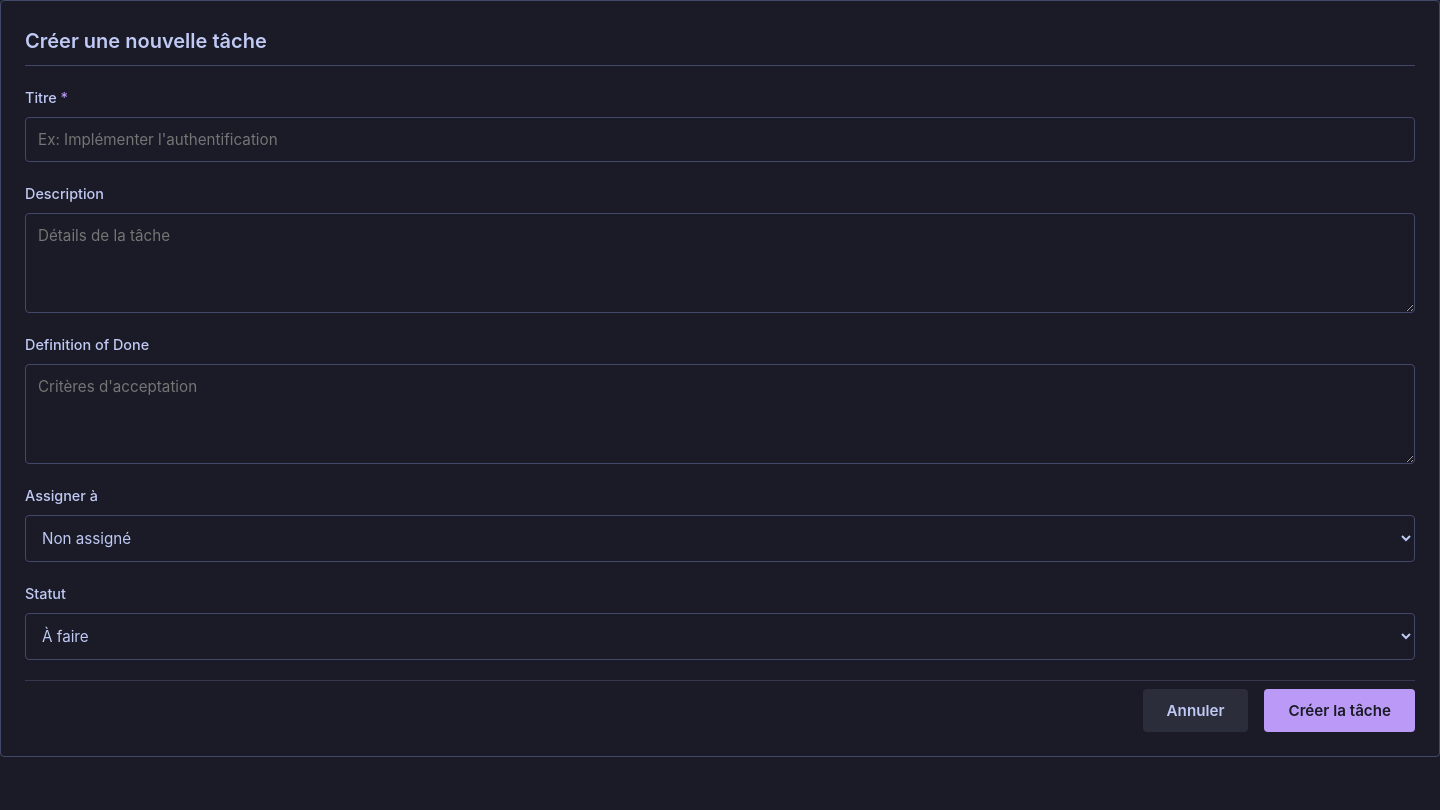
CreateTaskForm - Tests simples › devrait afficher un message d'erreur si la création échoue
Step 1. Type "Tâche erreur" into the field with id "title" → (720, 140), box [25,117,1415,162]
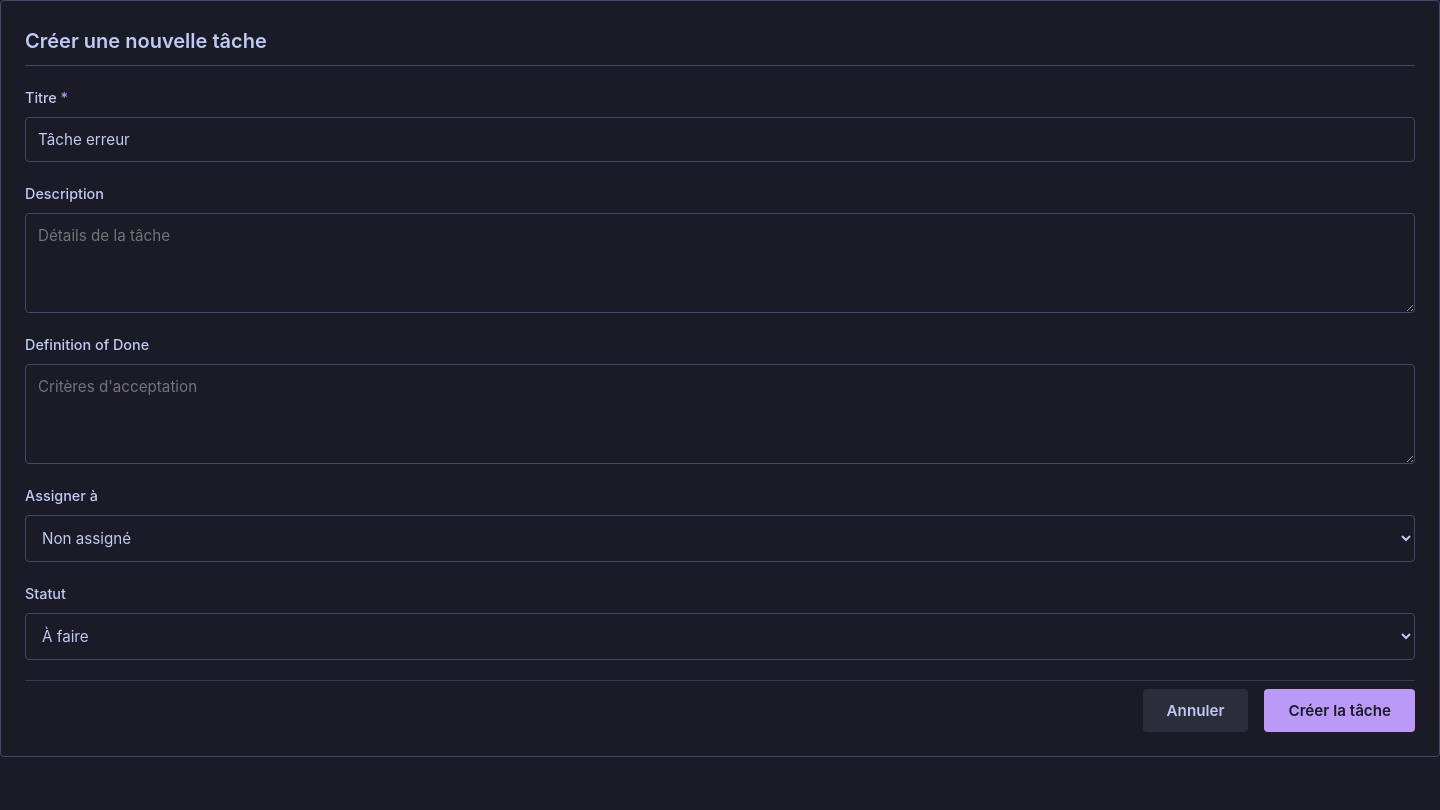
Step 2. Submit the form
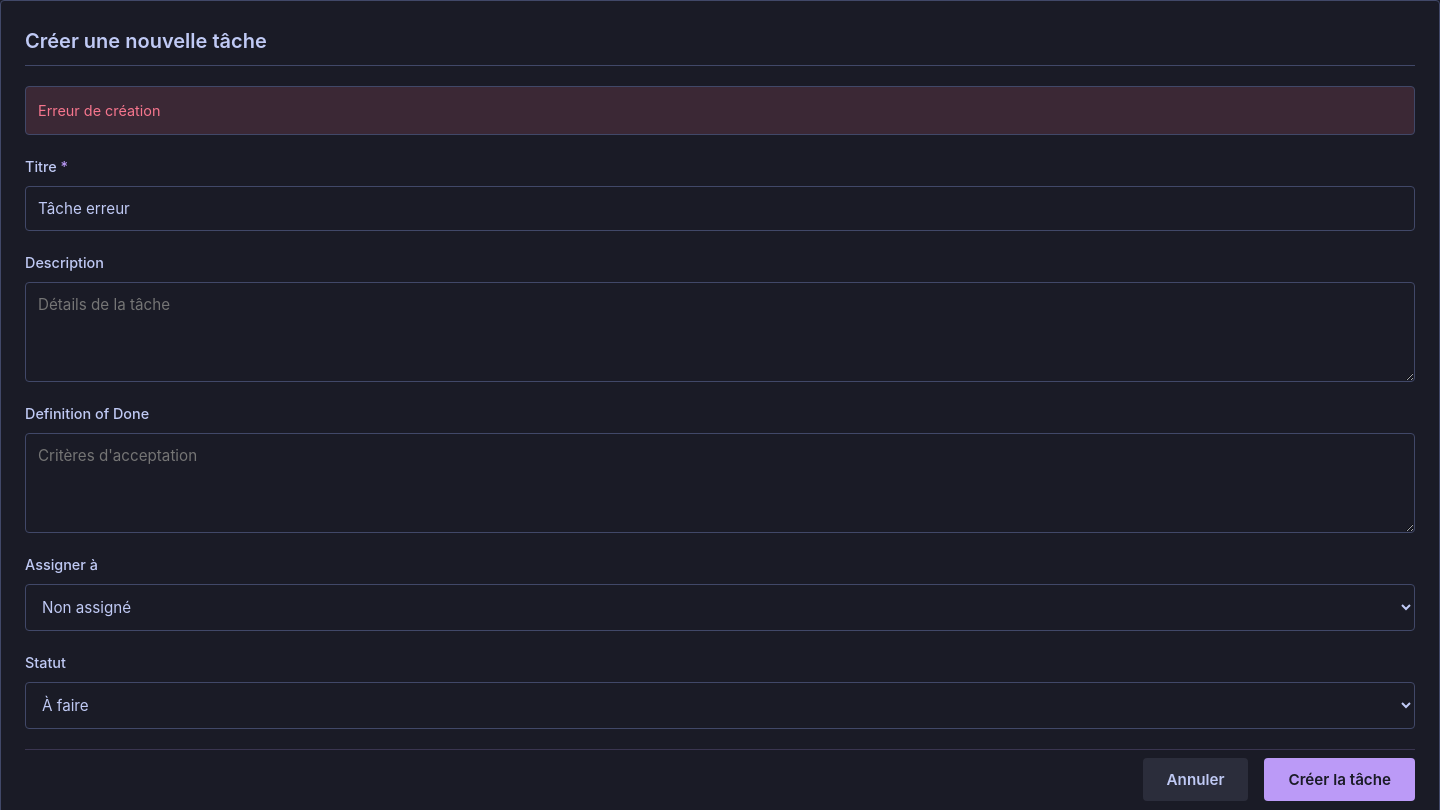
expect the text "Erreur de création" is shown: met, box [25,86,1415,135]
expect the text with class "error" shows "Erreur": met, box [38,102,160,119]
